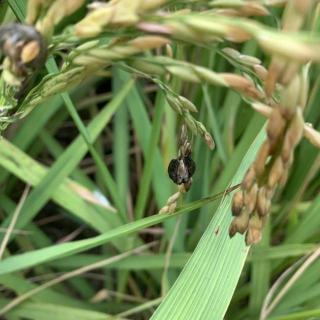Gosong-Palsu: (0, 23, 48, 69), (168, 156, 196, 184)
